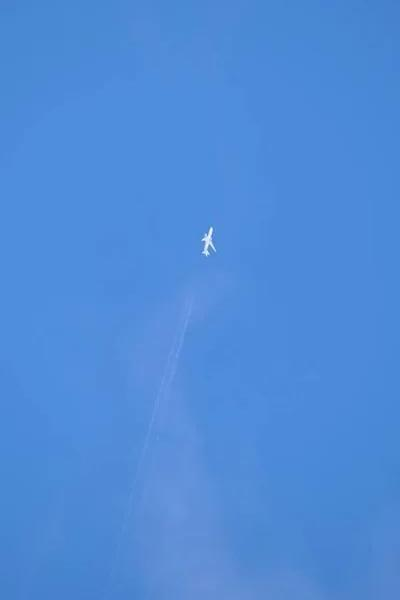Plane: (190, 214, 227, 268)
